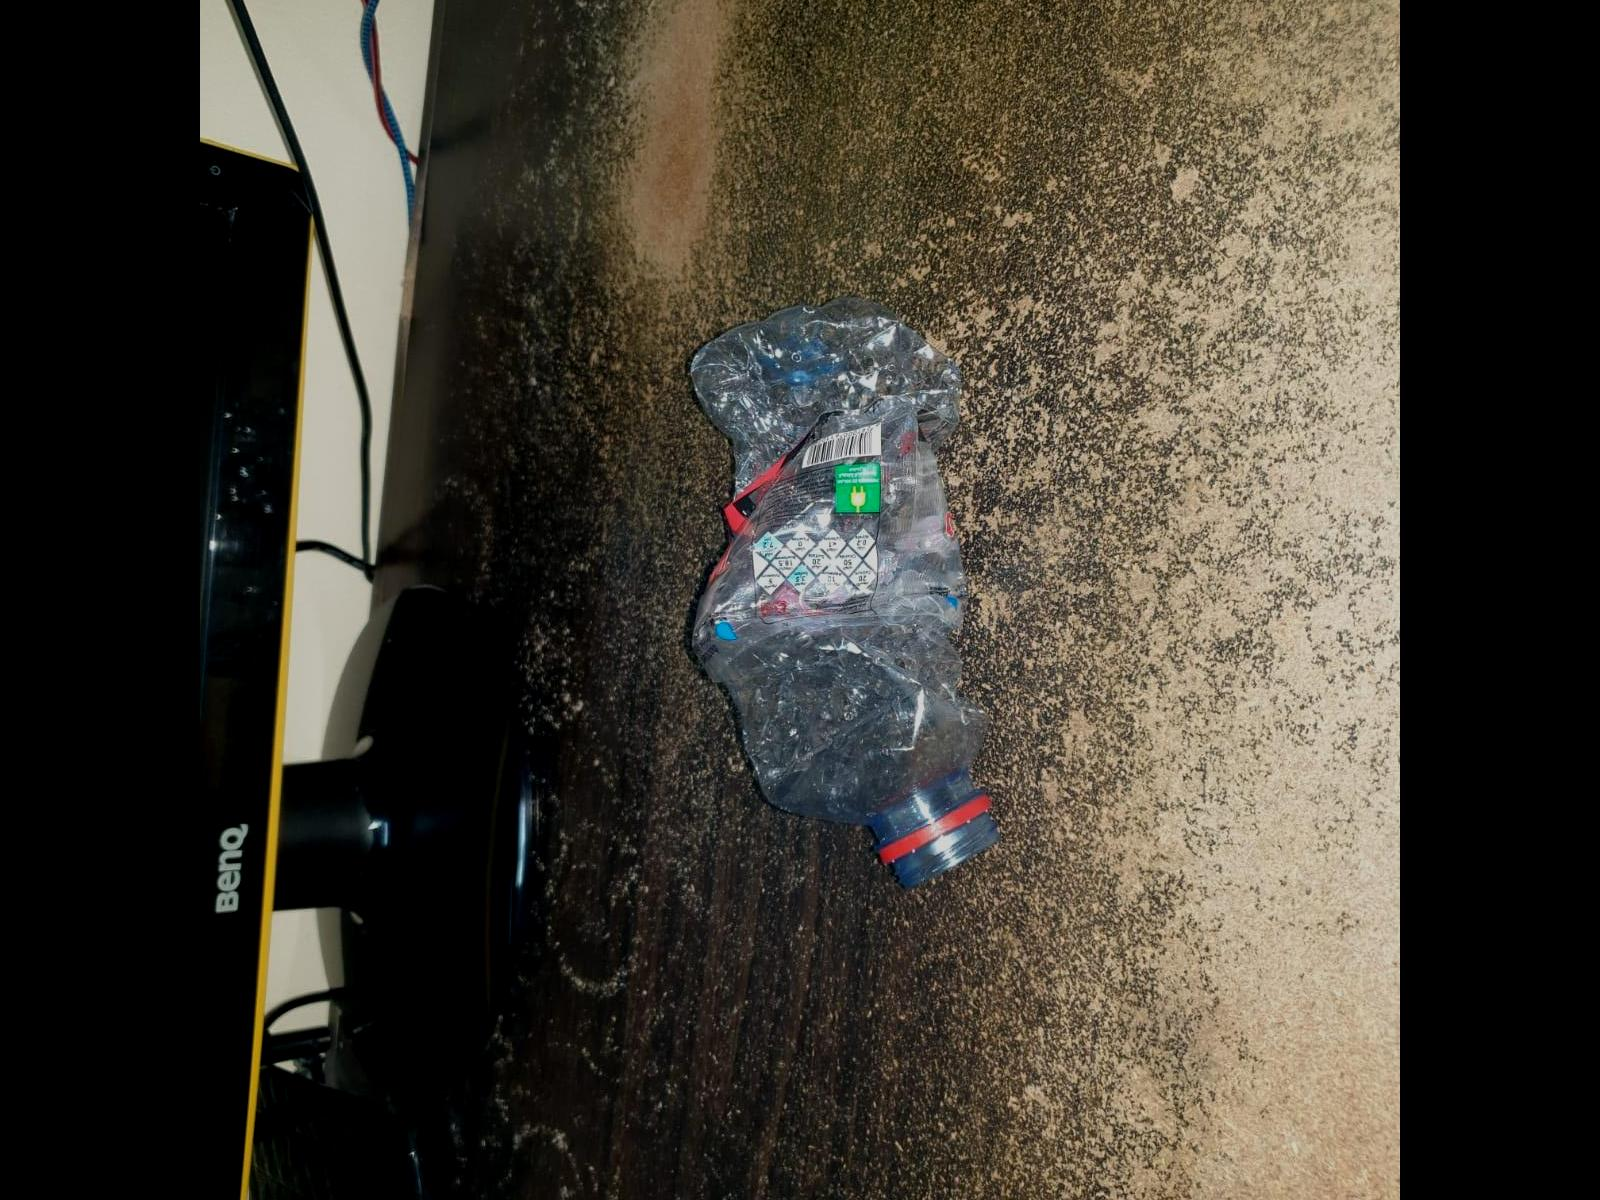bottle: (678, 294, 1024, 897)
